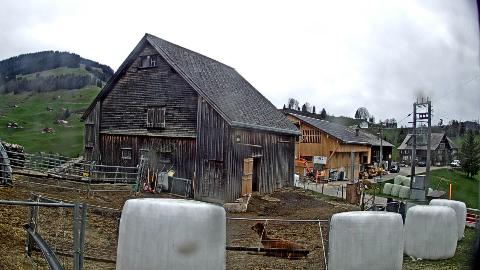car: (390, 166, 400, 172), (451, 160, 460, 166), (418, 162, 426, 166)
sheep: (246, 221, 308, 258), (227, 193, 251, 213), (386, 198, 406, 218), (222, 198, 244, 212)
